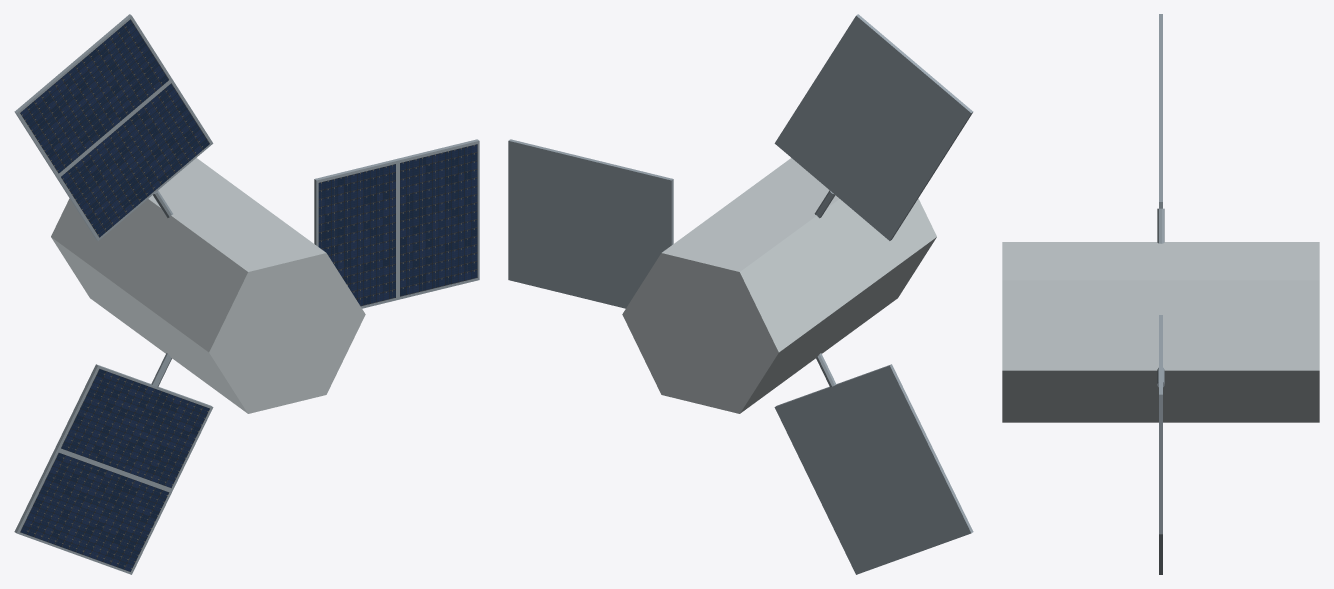
Rendered from ref-kompsat-29268.glb.
3 views of the same model, side by side, from view 1: azimuth 30°, elevation 25°; view 2: azimuth 150°, elevation 25°; view 3: azimuth 270°, elevation 25° (orthographic).
Visible parts, largest first — view 1: Photovoltaic laminates (×6), Spacecraft body, Array frame (×6); view 2: Array frame (×6), Spacecraft body; view 3: Spacecraft body, Array frame.
Part boxes in pixels (x1=…): Photovoltaic laminates (×6): x1=20, y1=19, x2=477, y2=571; Spacecraft body: x1=51, y1=158, x2=365, y2=413; Array frame (×6): x1=14, y1=14, x2=479, y2=574; Array frame (×6): x1=508, y1=14, x2=973, y2=574; Spacecraft body: x1=622, y1=158, x2=936, y2=413; Spacecraft body: x1=1002, y1=242, x2=1319, y2=422; Array frame: x1=1159, y1=355, x2=1162, y2=534.
Bounding box in the file's own units: 5.91 × 6.83 × 3.5.
3 materials, 1 textured.
